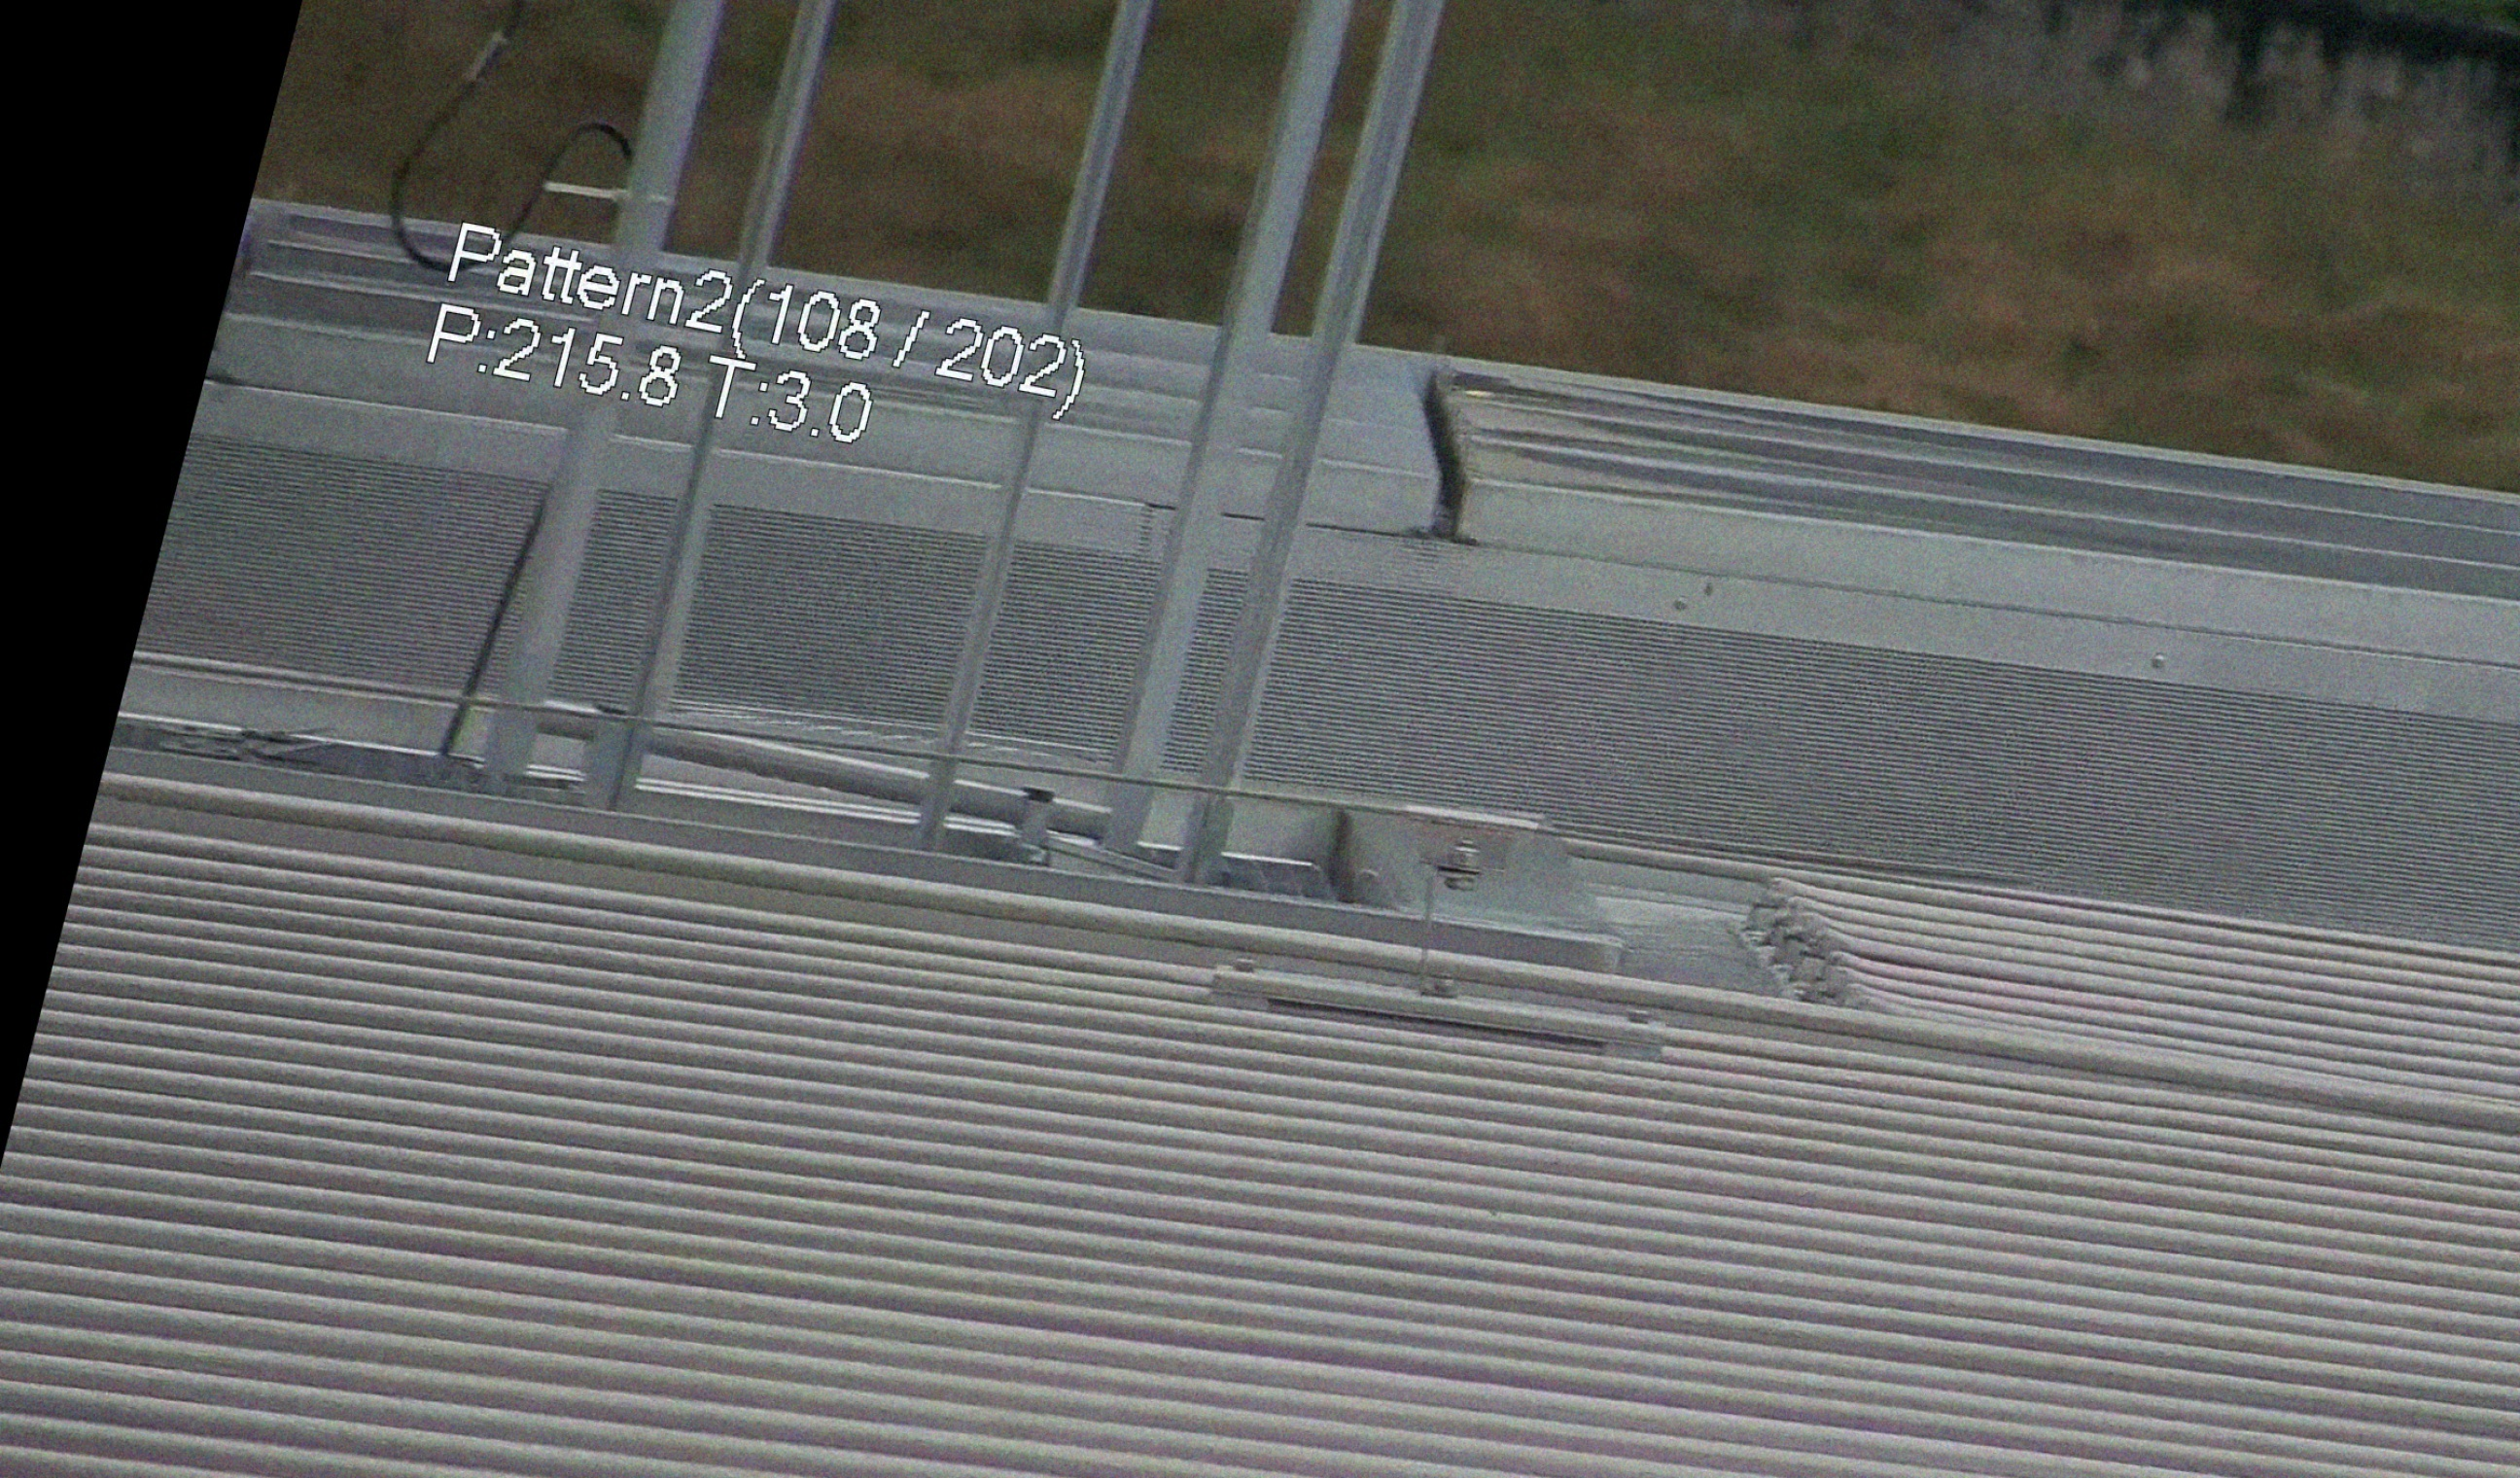Other: (1363, 336, 1523, 558)
